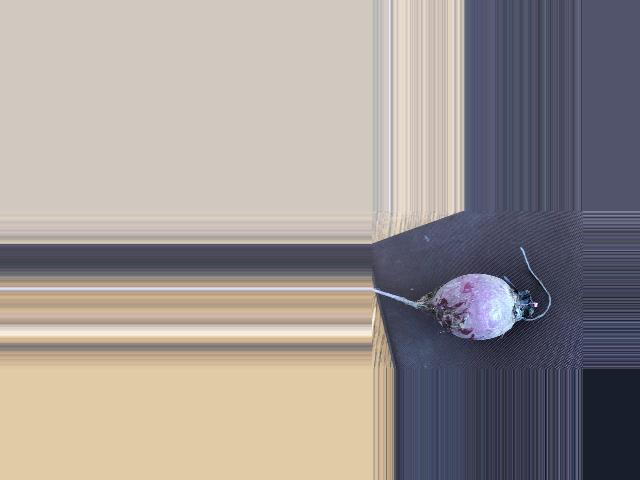beet: (370, 247, 550, 341)
